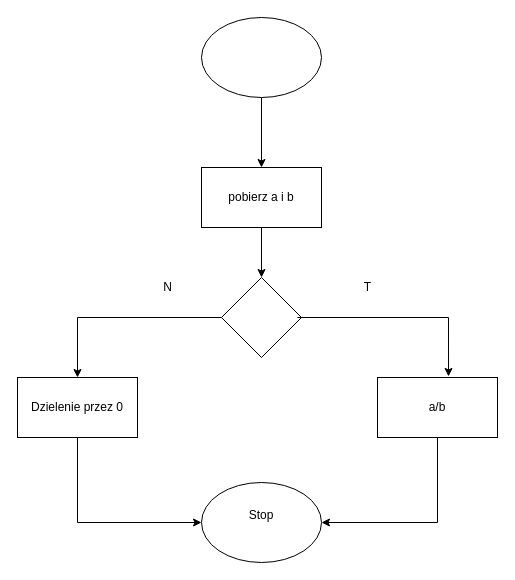
The diagram is 515 pixels wide and 580 high, and some of its shapes have lost their labels. Each missing label, with the box of its shape:
b==0: (220, 276, 302, 358)
Start: (200, 16, 322, 98)
